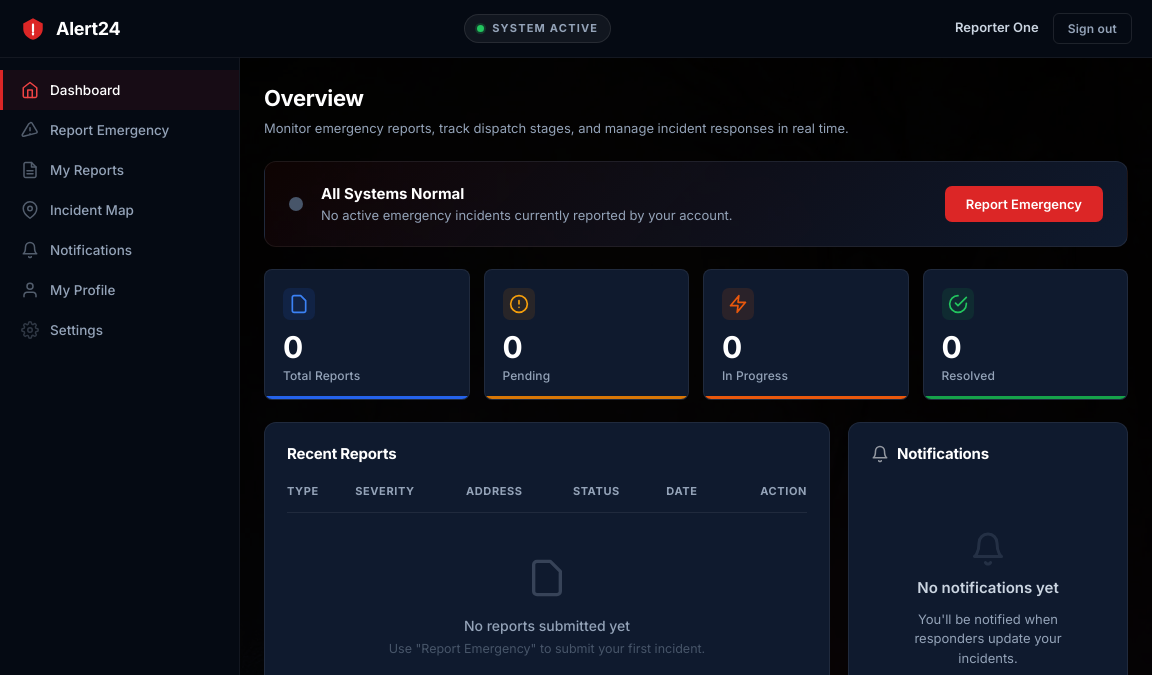
it: Reporter incident submission › persists the incident and its initial Reported history entry in ONE atomic batch
The image size is (1152, 675).
Click the 1st button titled "Report Emergency" at (120,130), box [0,110,239,150]
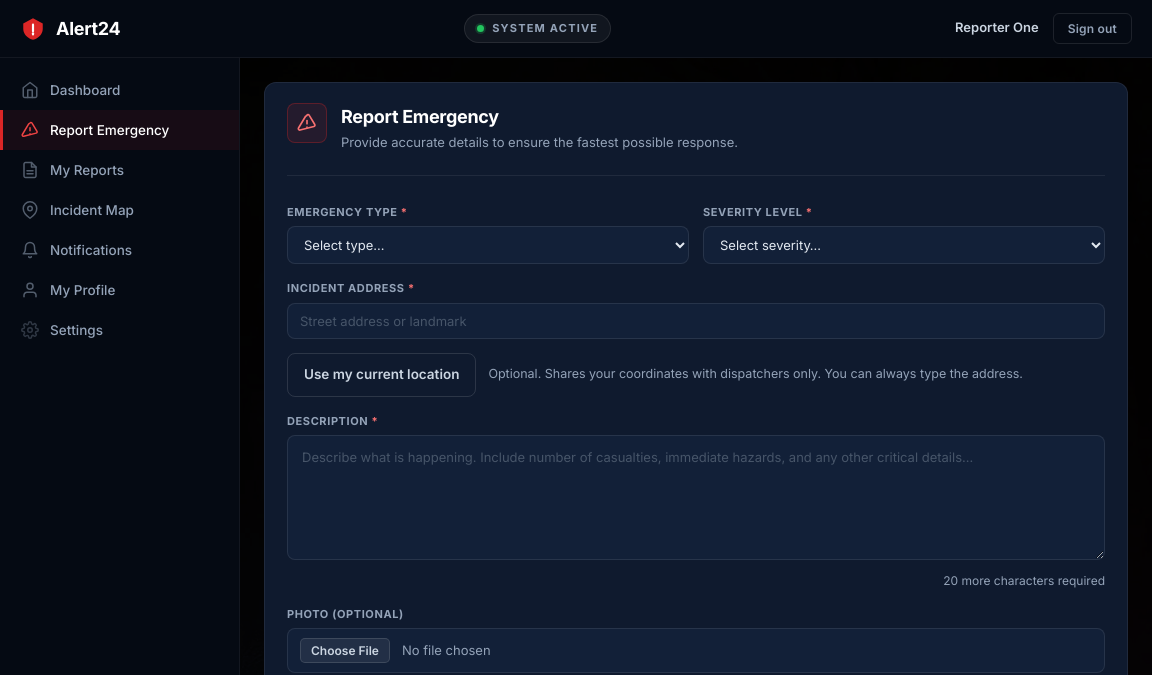
Select "Fire" in the dropdown labelled "Emergency Type *" at (488,245), box [287,226,689,264]
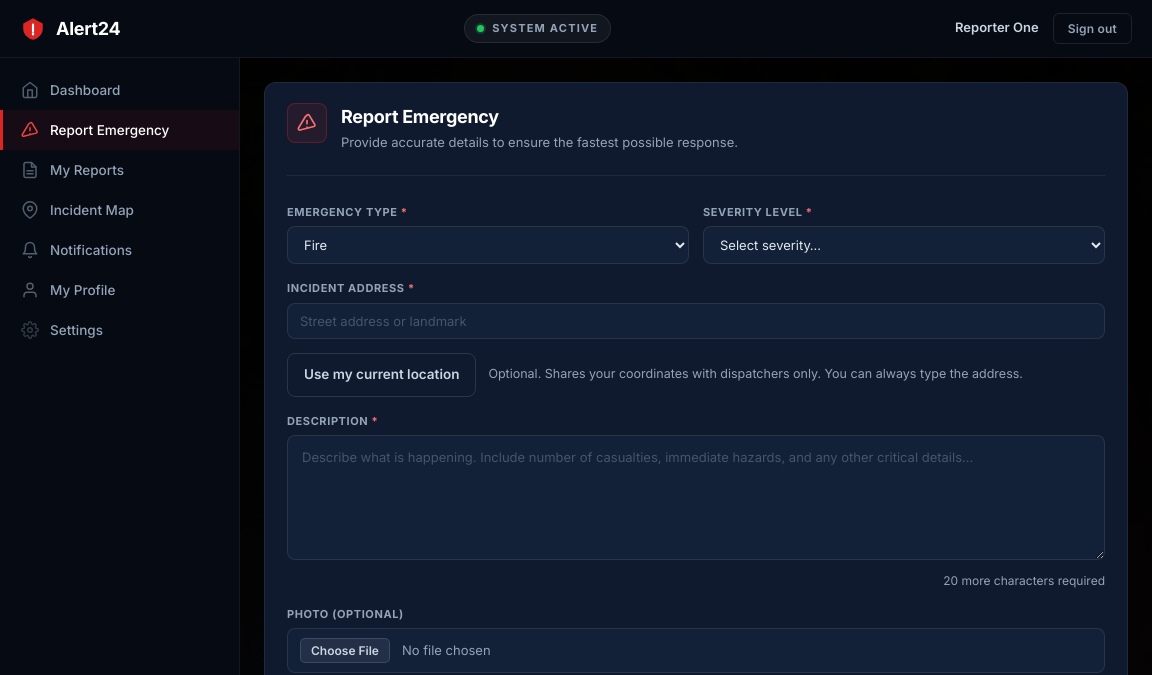
Select "Critical" in the dropdown labelled "Severity Level *" at (904,245), box [703,226,1105,264]
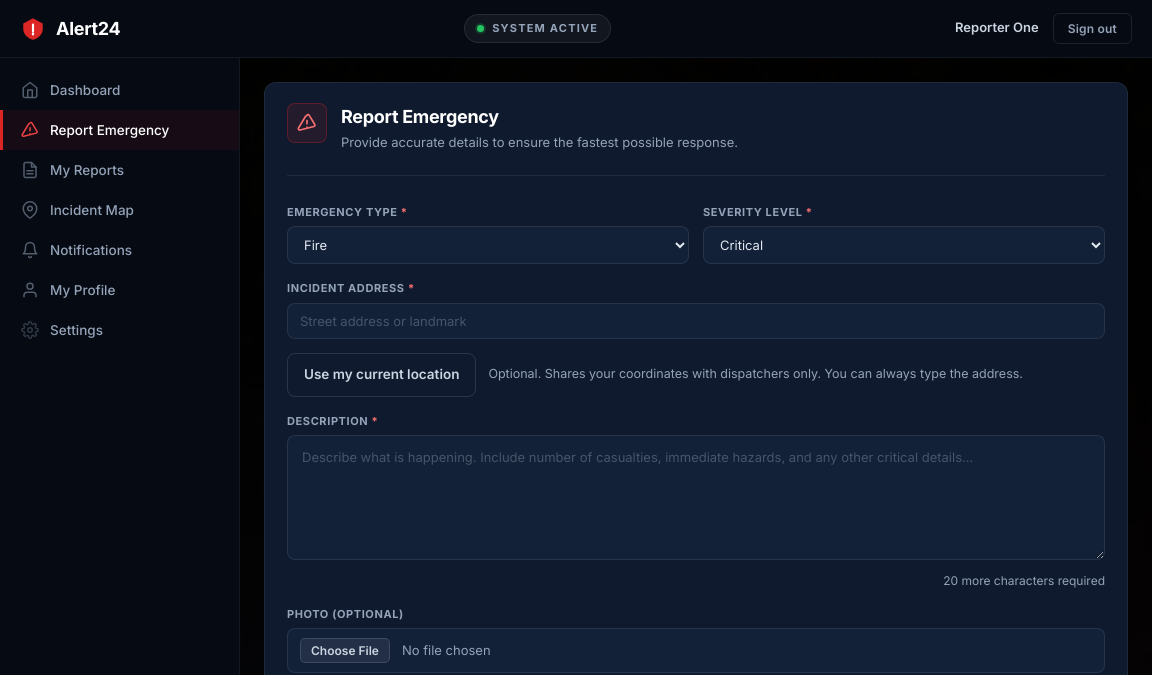
Type "1 Main Street" into the field with placeholder "Street address or landmark" at (696,320), box [287,302,1105,338]
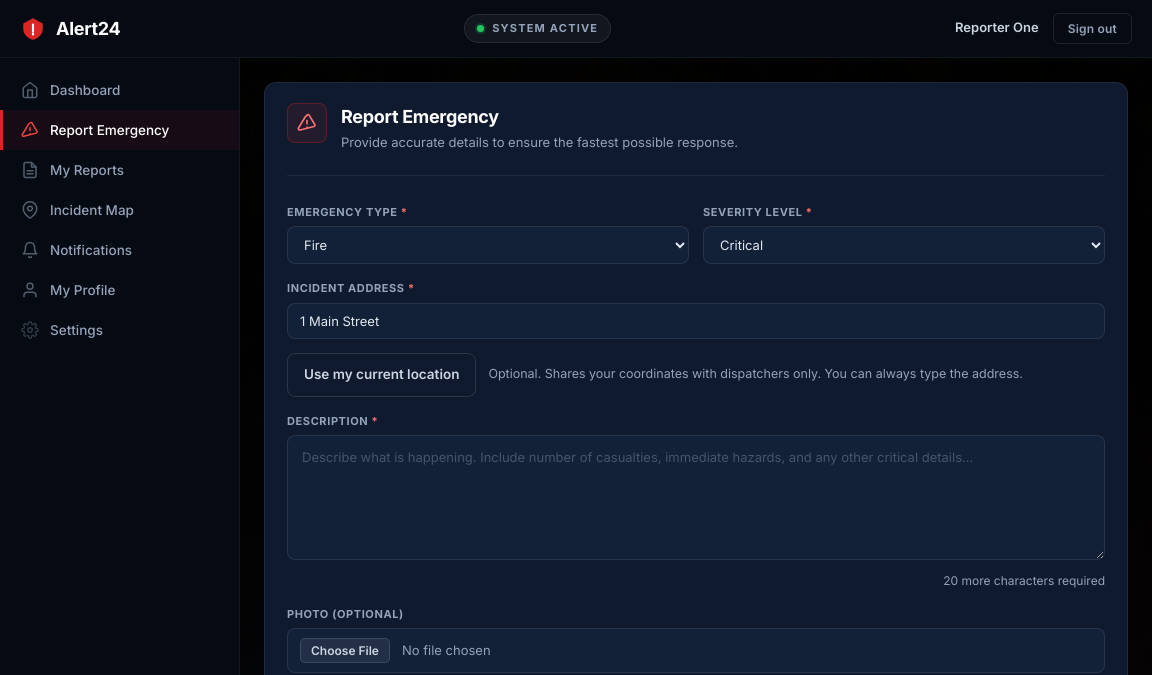
Replace the text in the text box with placeholder "Describe what is happening" with "A large fire is spreading through the warehouse" at (696,497), box [287,435,1105,560]
(page scrolled)
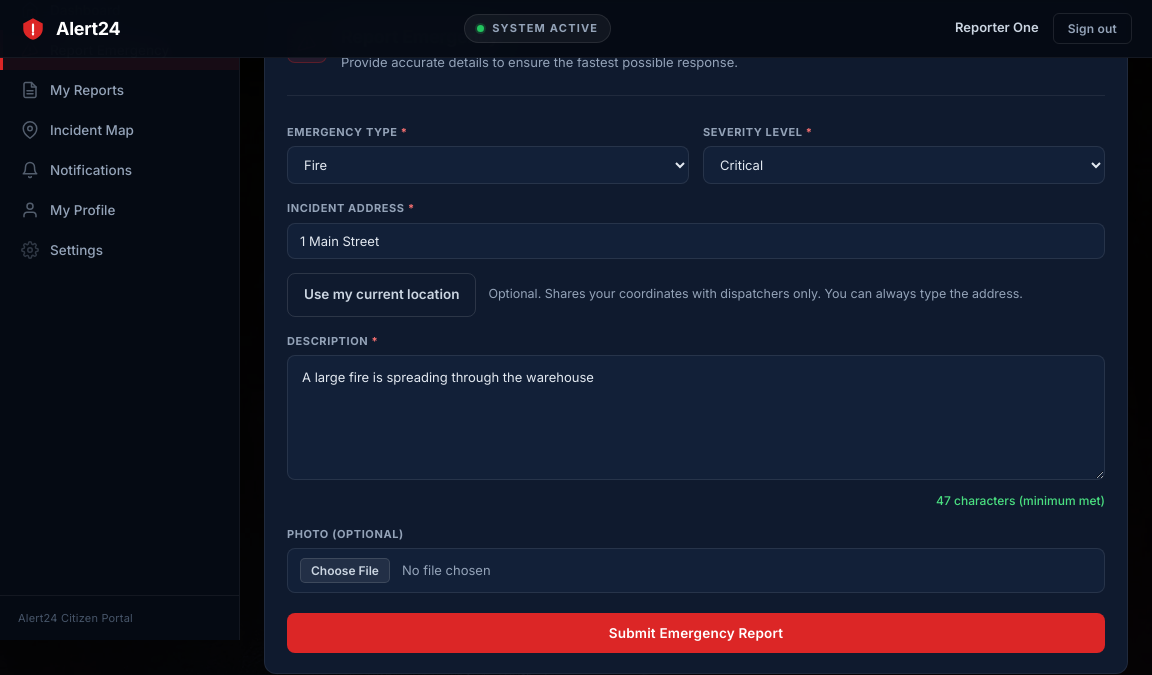
Click the button "Submit Emergency Report" at (696,633), box [287,613,1105,653]
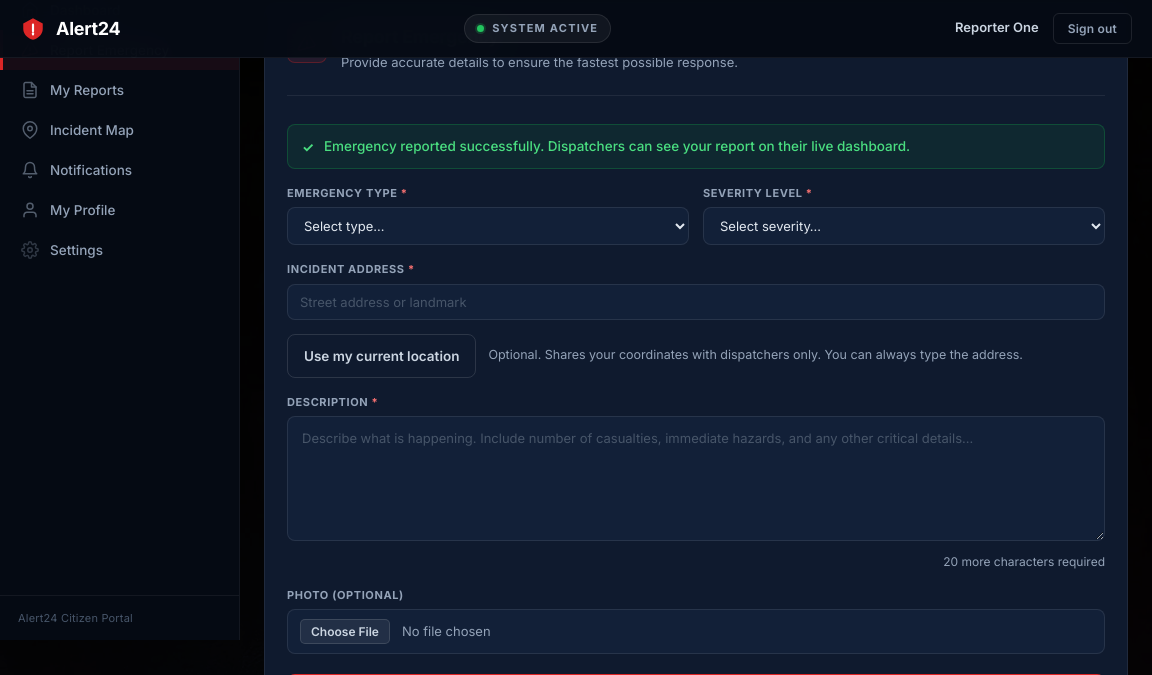
Result: the text "Emergency reported successfully" is shown at [324,138,910,154]
